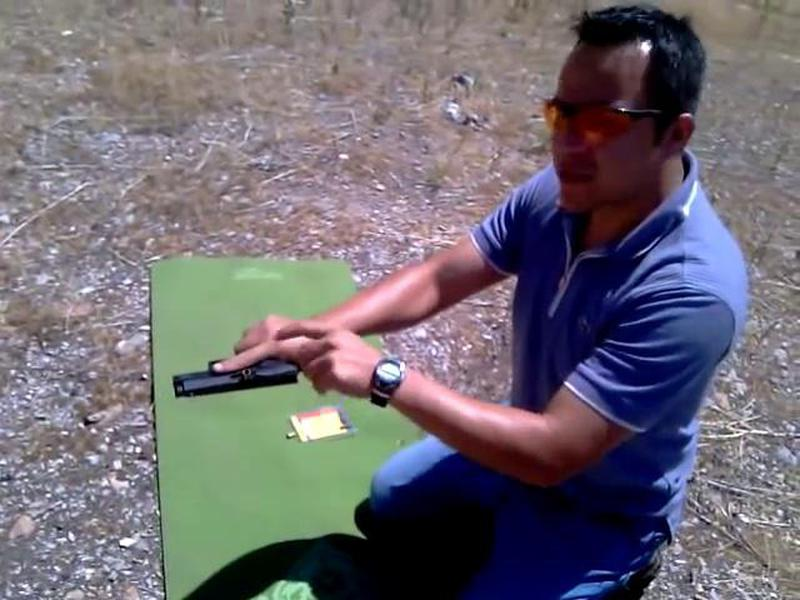Pistola: (158, 316, 315, 413)
